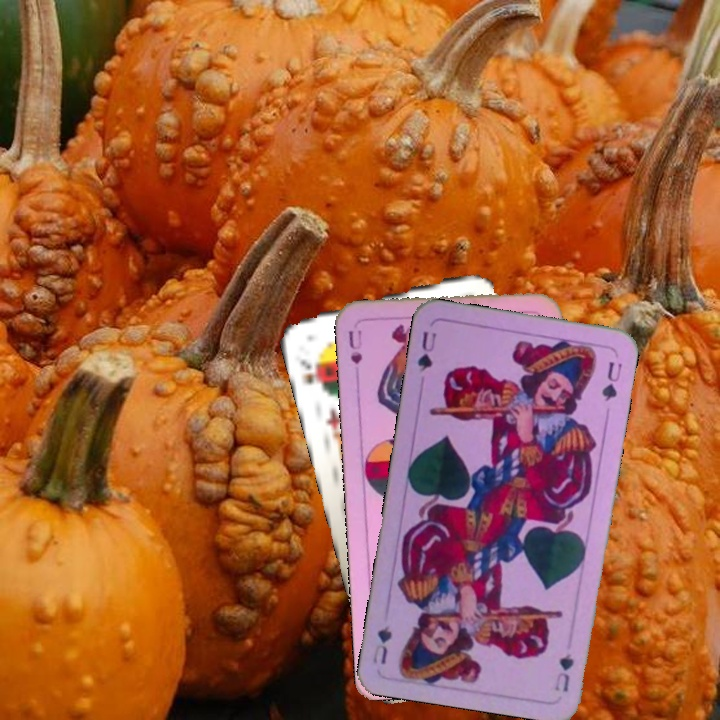GU: (413, 327, 440, 375), (551, 650, 577, 695)
SK: (296, 354, 328, 395)
SU: (344, 326, 365, 384)
